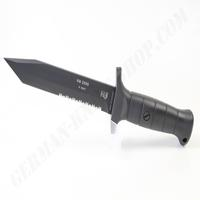knife: (2, 47, 198, 144)
